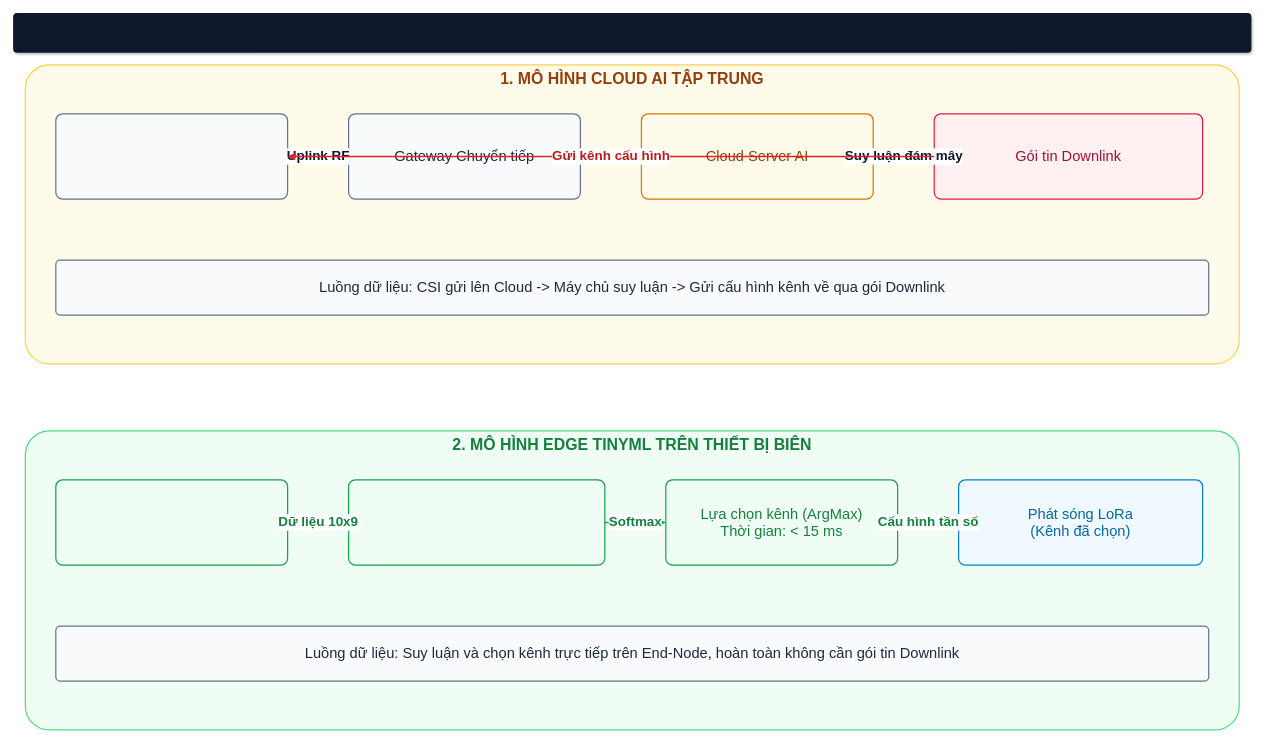
The diagram is 1265 pixels wide and 741 high, and some of its shapes have lost their labels. The shapes that lost their labels are listed below. From the top down, each one's centre as x and y in pixels, then its label:
At [632,33]: "SO SÁNH MÔ HÌNH XỬ LÝ: CLOUD AI VÀ EDGE TINYML".
At [171,156]: "End-Node Cảm biến".
At [171,522]: "Bộ đệm CSI (10x9)".
At [476,522]: "Mô hình TinyML (ESP32) Bộ nhớ: 8.65 KB Flash".
